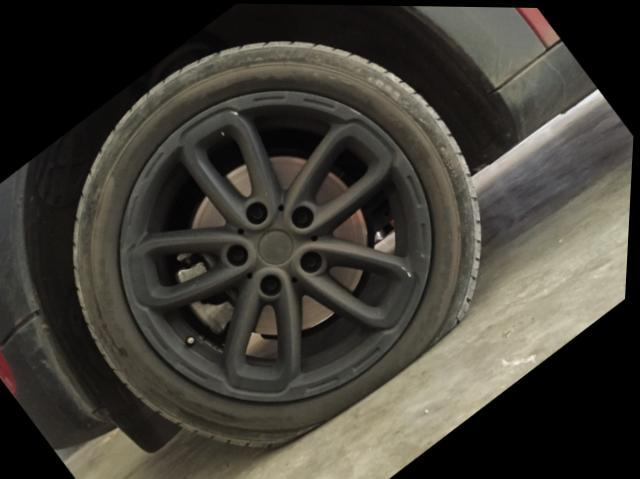tire flat: (77, 36, 486, 446)
